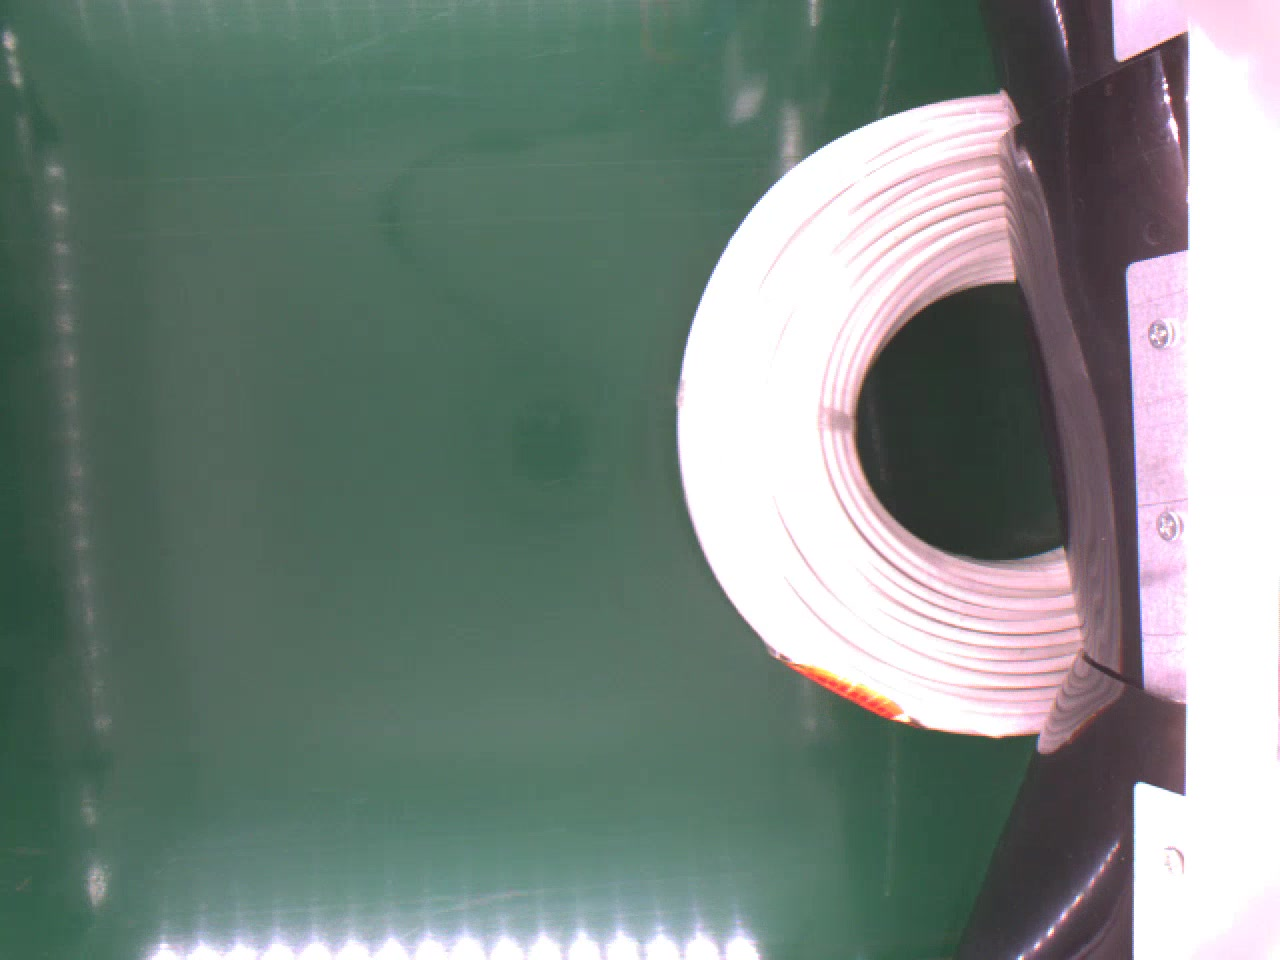white: (674, 90, 1084, 735)
